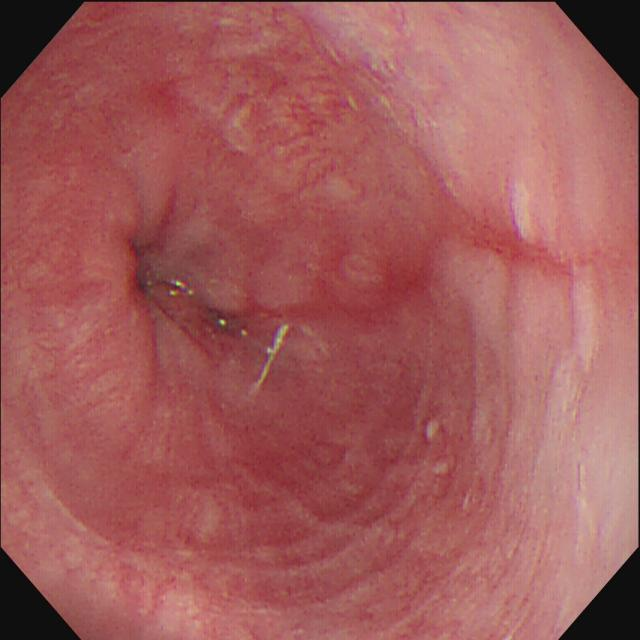A: (226, 76, 348, 139)
J: (156, 569, 208, 640), (571, 283, 604, 375), (254, 324, 290, 389), (195, 488, 227, 545), (510, 182, 534, 244)
